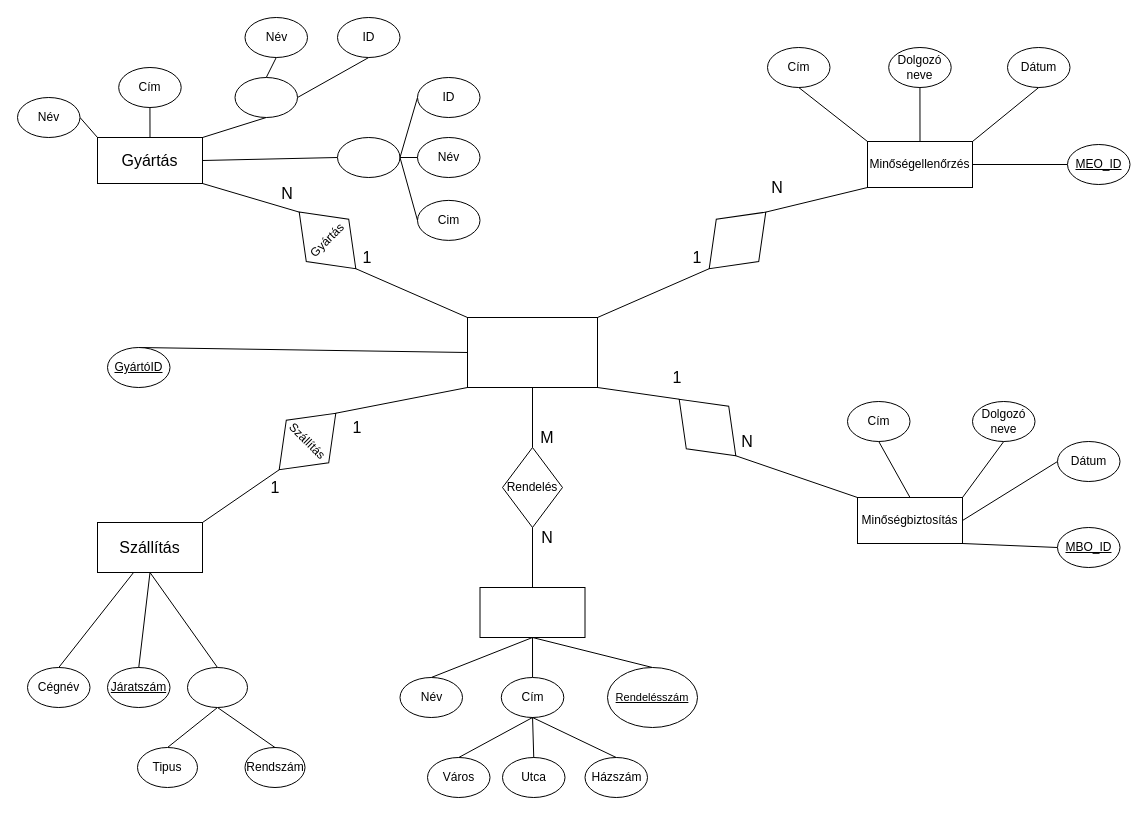
Image size: 1148x815. Some labels were removed from this diagram. Here are the shapes that lost their labels. From the top down, the centre of each, then its label:
At (x=266, y=97): "Termék".
At (x=368, y=157): "Dolgozó".
At (x=737, y=240): "Ellenőrzés".
At (x=532, y=352): "Gyártócég".
At (x=707, y=427): "Felszabadítás".
At (x=532, y=612): "Vevő".
At (x=217, y=687): "Autó".
